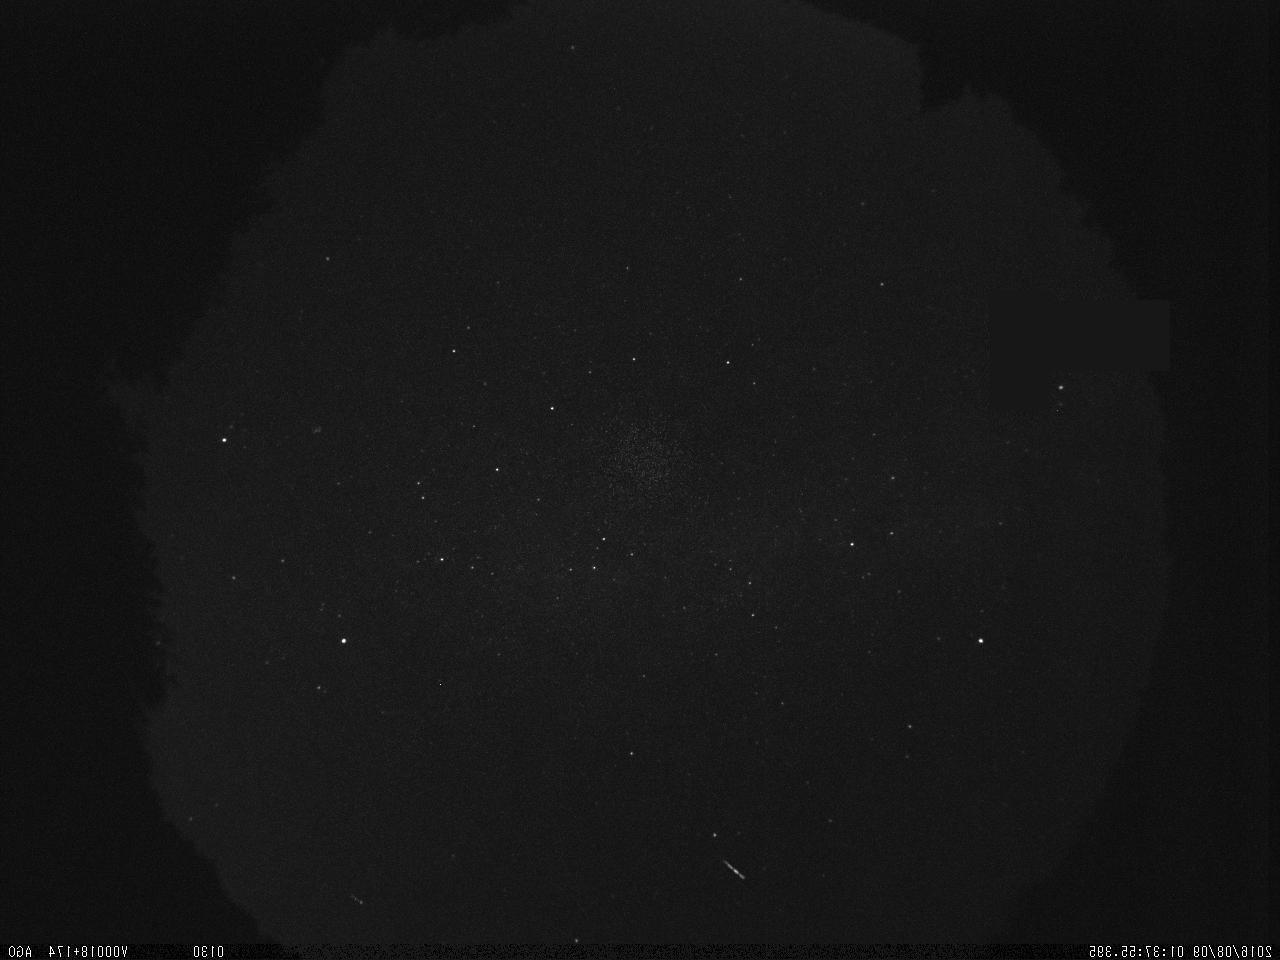meteor: (705, 851, 750, 892)
